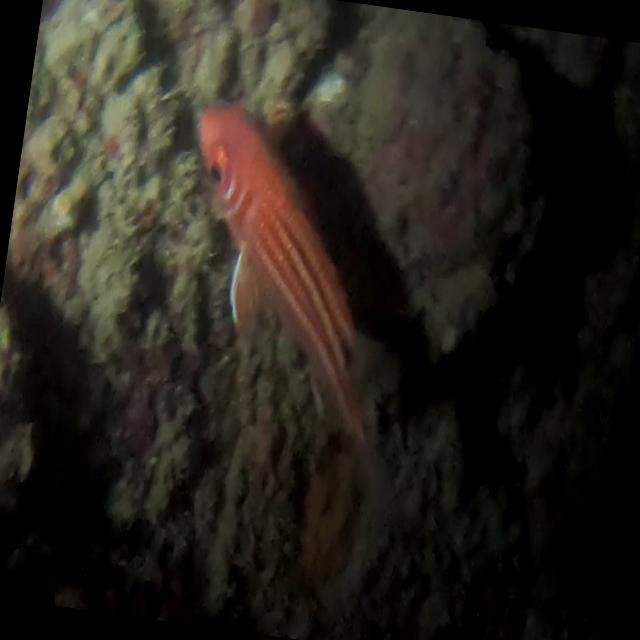Asker Baligi: (124, 62, 462, 540)
